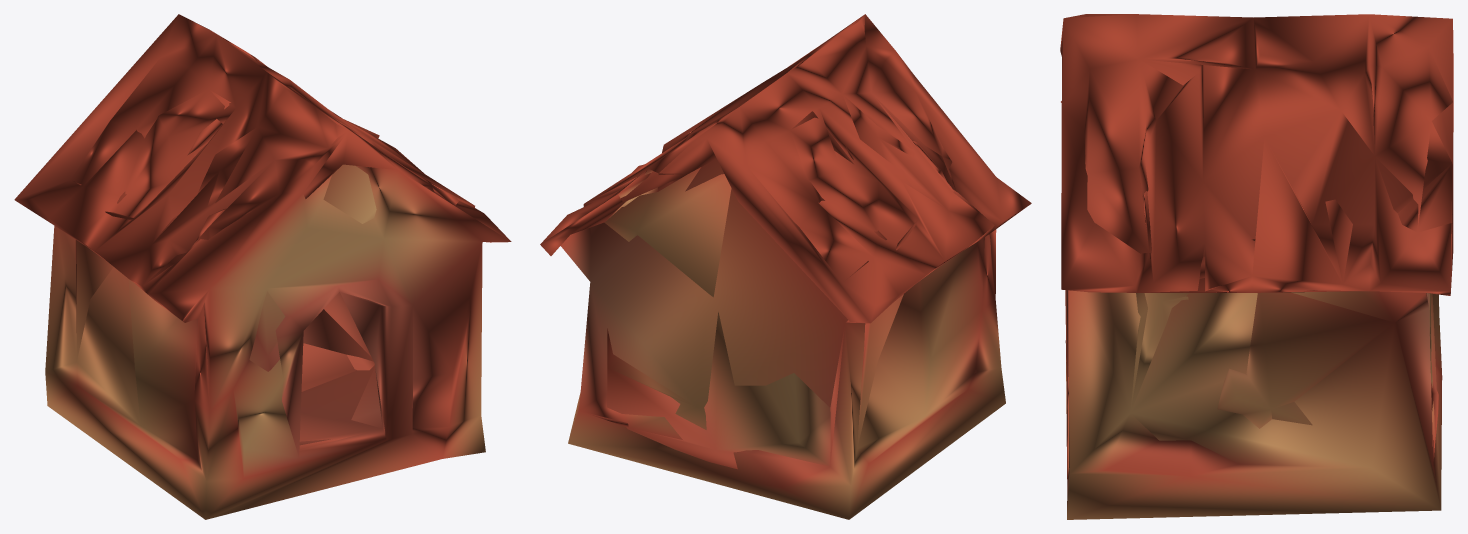
The model's file is gen3d-doghouse-lod1.glb.
3 views of the same model, side by side, from view 1: azimuth 30°, elevation 25°; view 2: azimuth 150°, elevation 25°; view 3: azimuth 270°, elevation 25° (orthographic). The views are drawn at different scales.
Visible parts, largest first — view 1: part_0; view 2: part_0; view 3: part_0.
Boxes of the visible parts, left/top/right/bottom form: part_0: left=14, top=14, right=511, bottom=519; part_0: left=540, top=14, right=1031, bottom=519; part_0: left=1060, top=14, right=1453, bottom=519.
Size of the model in its own units: 0.9688 by 0.9949 by 0.8326.
